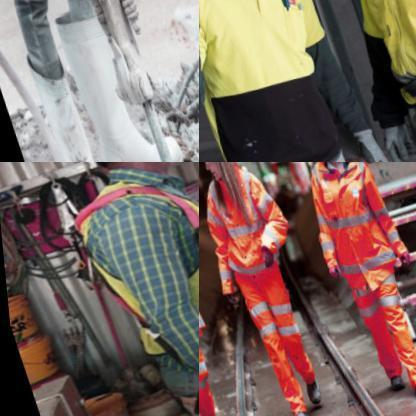vest: (49, 162, 198, 381), (285, 162, 415, 307), (199, 162, 309, 315)
